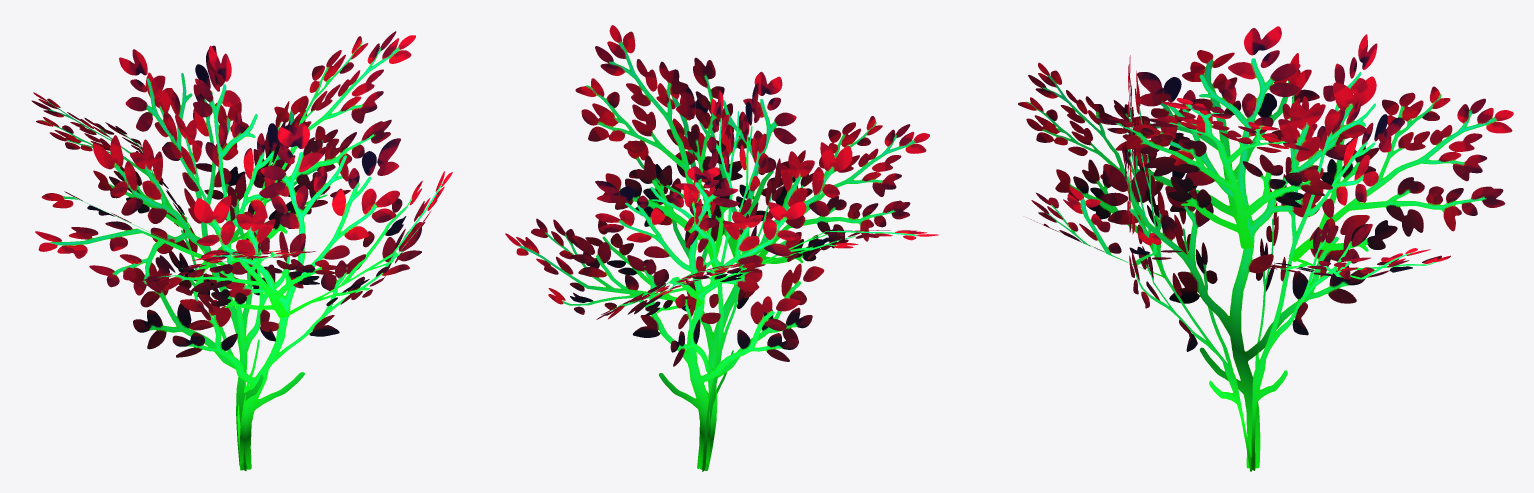
The model's file is SM_Tree_Sapling_02.fbx.
3 views of the same model, side by side, from view 1: azimuth 30°, elevation 25°; view 2: azimuth 150°, elevation 25°; view 3: azimuth 270°, elevation 25° (orthographic). The views are drawn at different scales.
Parts seen in each view (by area): view 1: SM_Tree_Sapling_02_LOD0; view 2: SM_Tree_Sapling_02_LOD0; view 3: SM_Tree_Sapling_02_LOD0.
Part boxes in pixels (x1=…): SM_Tree_Sapling_02_LOD0: x1=31, y1=31, x2=452, y2=470; SM_Tree_Sapling_02_LOD0: x1=505, y1=25, x2=938, y2=471; SM_Tree_Sapling_02_LOD0: x1=1018, y1=26, x2=1513, y2=471.
Size of the model in its own units: 110 by 116 by 120.
